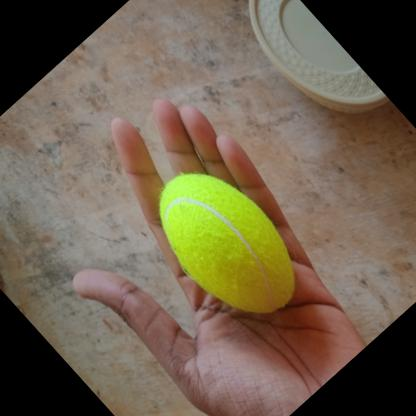Tennis: (128, 142, 323, 342)
